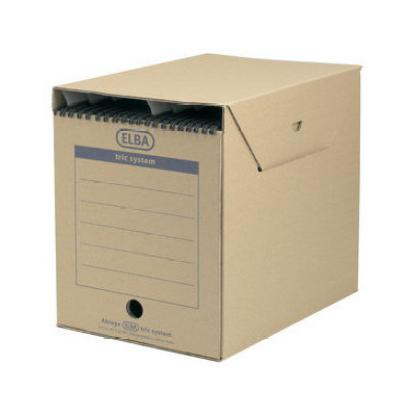box: (51, 51, 361, 365)
